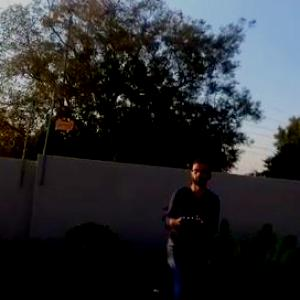follow: (153, 149, 222, 299)
